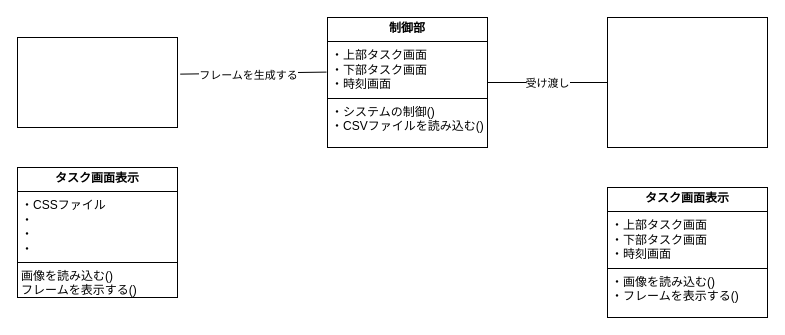
The diagram is 785 pixels wide and 335 high, and some of its shapes have lost their labels. Here are the shapes that lost their labels. From the top down, the centre of each, then its label:
the point at 97,82: フレーム ・画像を読み込む() ・フレームを表示する()
the point at 687,82: データ記録 ・タスクの時間 ・タスクの分 ・タスクの種別 ・タスクの名前 ・タスクの詳細
